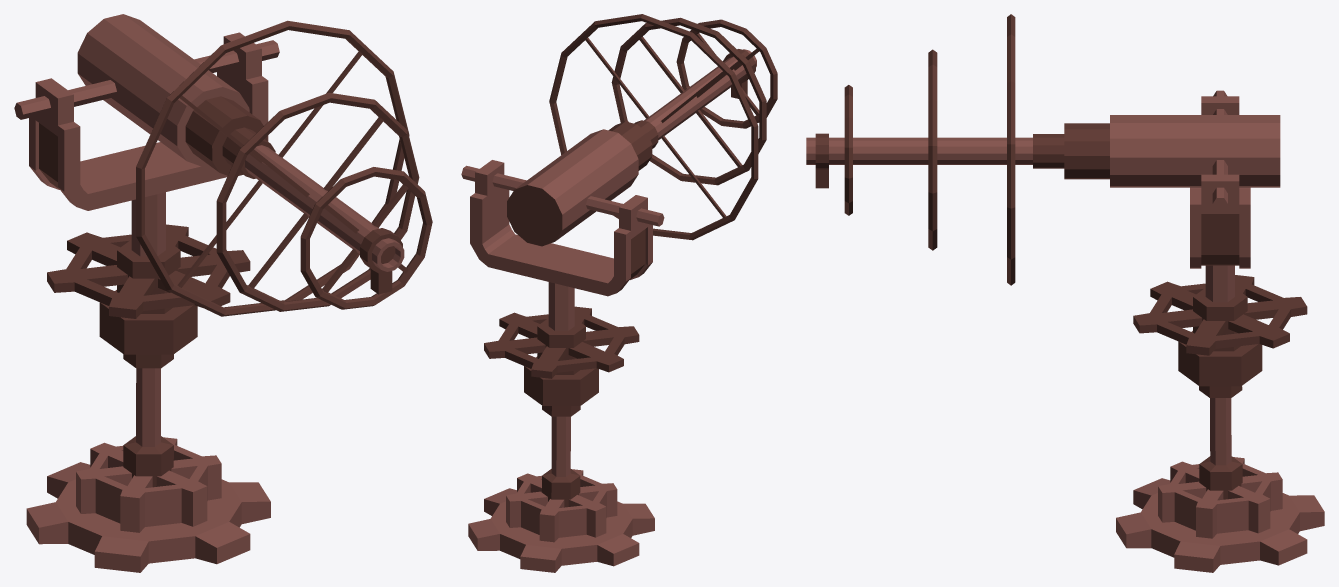
The model's file is Laser_1ff.fbx.
The picture shows the model from 3 angles, left to right: view 1: azimuth 30°, elevation 25°; view 2: azimuth 150°, elevation 25°; view 3: azimuth 270°, elevation 25°; orthographic projection. The views are drawn at different scales.
Parts seen in each view (by area): view 1: Laser_1_Gun, Laser_1_Mid, Laser_1_Base; view 2: Laser_1_Mid, Laser_1_Gun, Laser_1_Base; view 3: Laser_1_Gun, Laser_1_Mid, Laser_1_Base.
Boxes of the visible parts, x1,y1,x2,y2 form: Laser_1_Gun: (77, 14, 432, 316); Laser_1_Mid: (14, 32, 279, 487); Laser_1_Base: (26, 437, 270, 572); Laser_1_Mid: (461, 160, 664, 507); Laser_1_Gun: (507, 14, 777, 246); Laser_1_Base: (468, 469, 654, 572); Laser_1_Gun: (806, 14, 1280, 285); Laser_1_Mid: (1133, 90, 1307, 499); Laser_1_Base: (1116, 457, 1324, 572).
Bounding box in the file's own units: 99.75 × 205 × 191.
